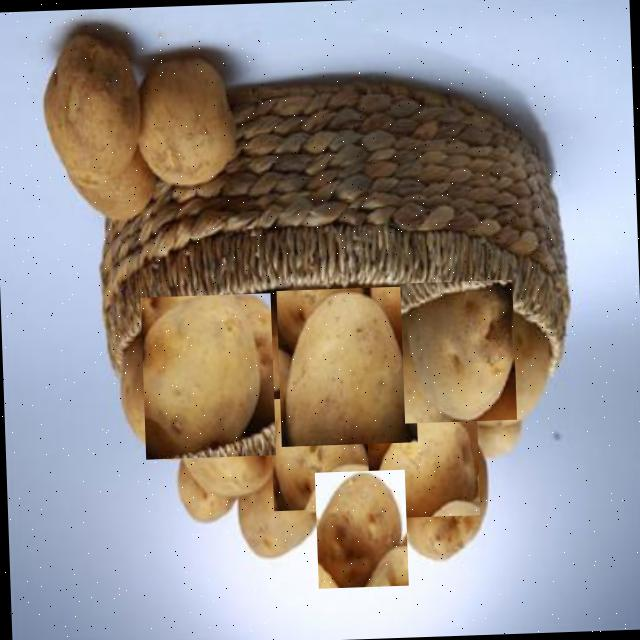Damaged potato: (37, 30, 142, 194)
Potato: (275, 284, 416, 446), (139, 292, 275, 458), (398, 278, 516, 422), (132, 53, 238, 188), (384, 442, 493, 564), (365, 403, 479, 518), (223, 452, 336, 559), (268, 394, 368, 510), (314, 468, 408, 587)
